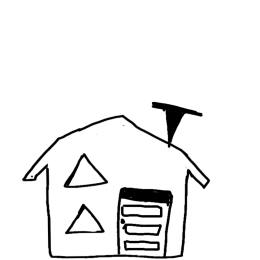bottom_placed_house: (0, 0, 260, 260)
chimney: (141, 86, 209, 154)
door: (112, 184, 178, 260)
open_window: (59, 150, 113, 195), (59, 202, 110, 240)
single_line_roof: (21, 107, 216, 193)
wall: (46, 154, 191, 260)
